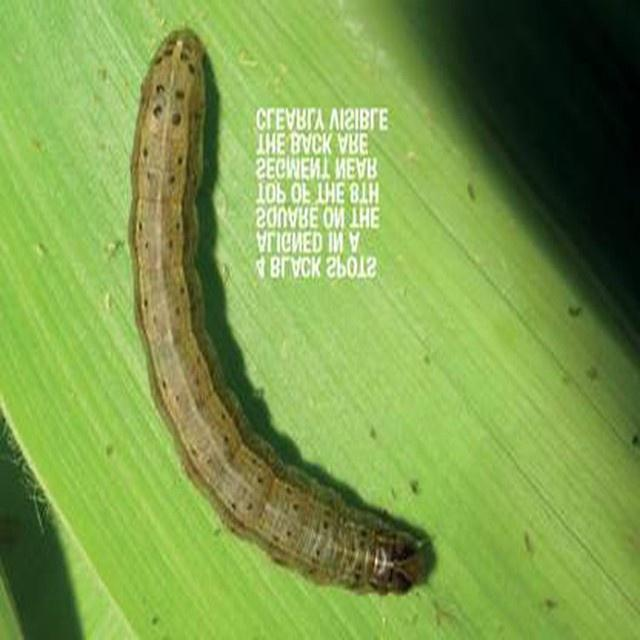gusano_cogollero: (130, 30, 438, 595)
